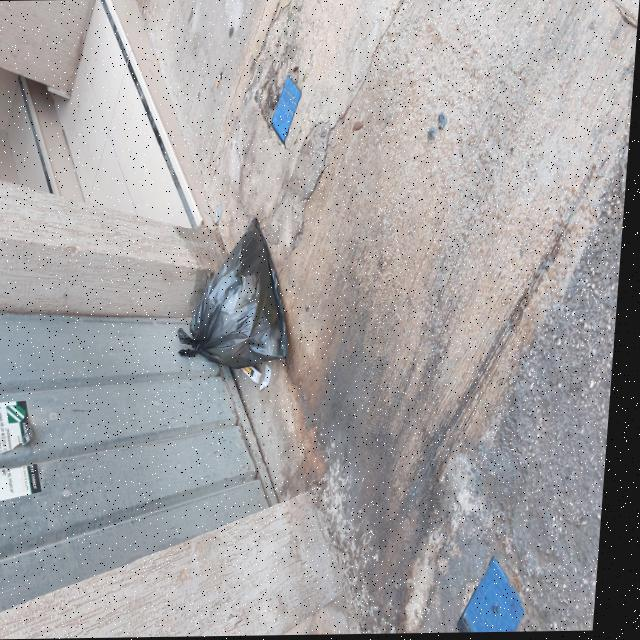Mixed Waste -Black Bag-: (180, 218, 306, 371)
